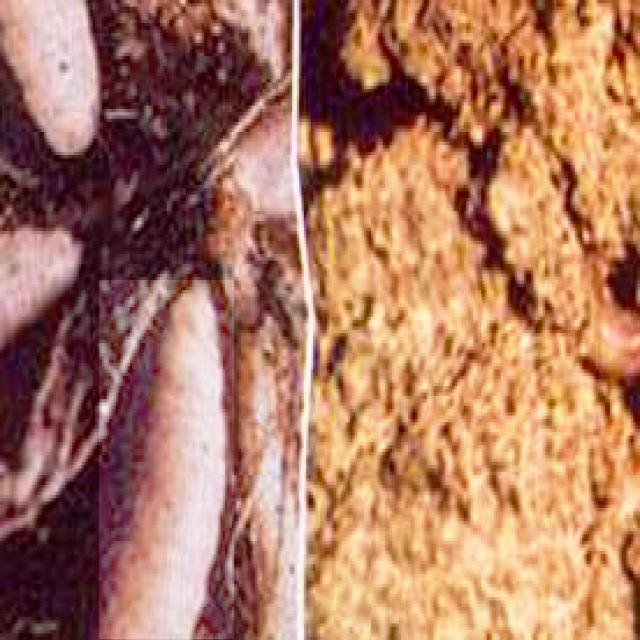whorl-maggot: (99, 281, 234, 640)
